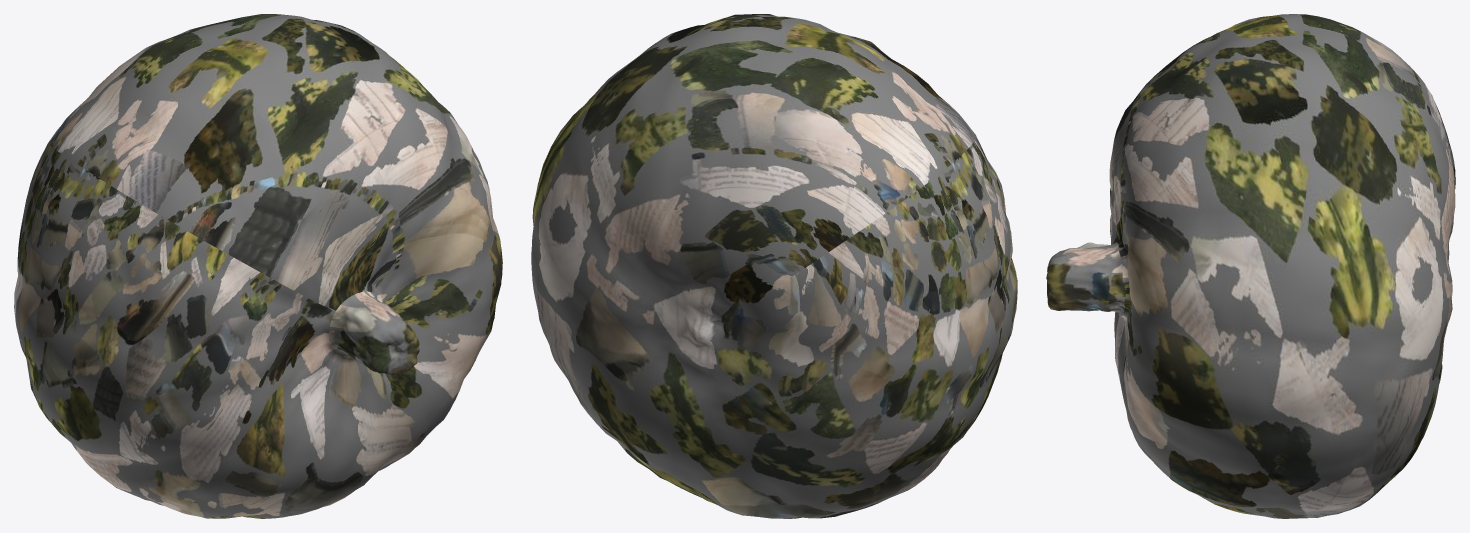
3 renders of one model, left to right at view 1: azimuth 30°, elevation 25°; view 2: azimuth 150°, elevation 25°; view 3: azimuth 270°, elevation 25°, orthographic.
Bounding box in the file's own units: 0.9832 × 1 × 0.7975.
